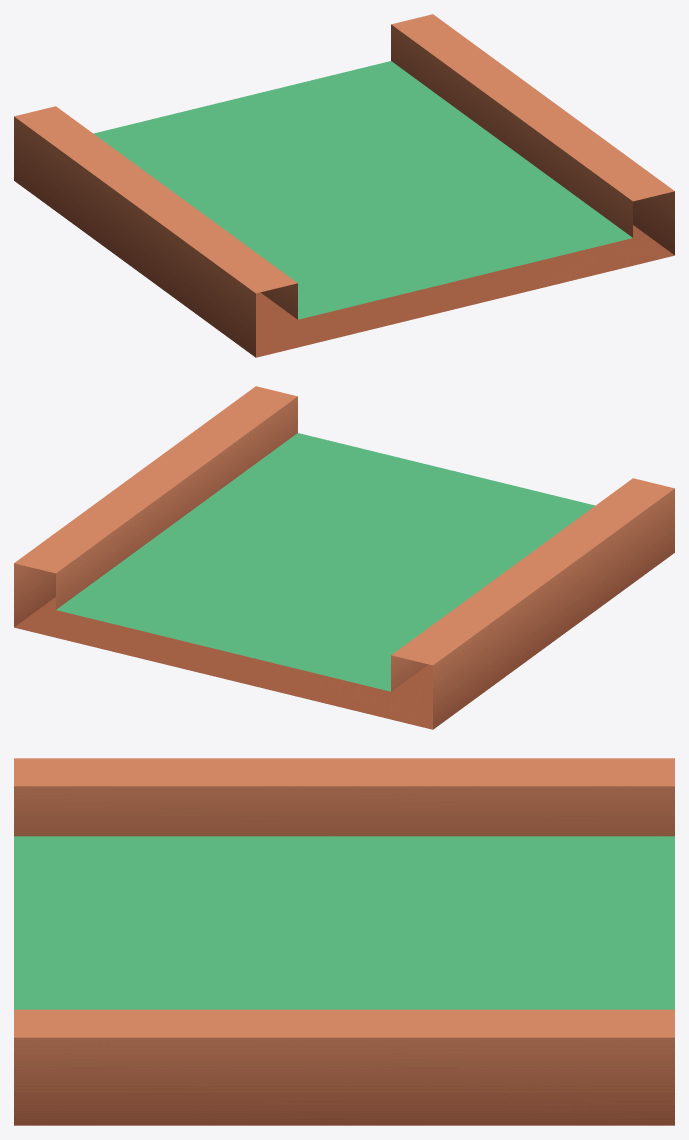
Rendered from spline-default.glb.
3 renders of one model, top to bottom at view 1: azimuth 30°, elevation 25°; view 2: azimuth 150°, elevation 25°; view 3: azimuth 270°, elevation 25°, orthographic. The views are drawn at different scales.
Visible parts, largest first — view 1: spline-default; view 2: spline-default; view 3: spline-default.
Part boxes in pixels (<box>): spline-default: <box>14,14,674,357</box>; spline-default: <box>14,386,674,729</box>; spline-default: <box>14,758,674,1125</box>.
Size of the model in its own units: 0.9999 by 0.1467 by 0.9999.
1 material, 1 textured.
